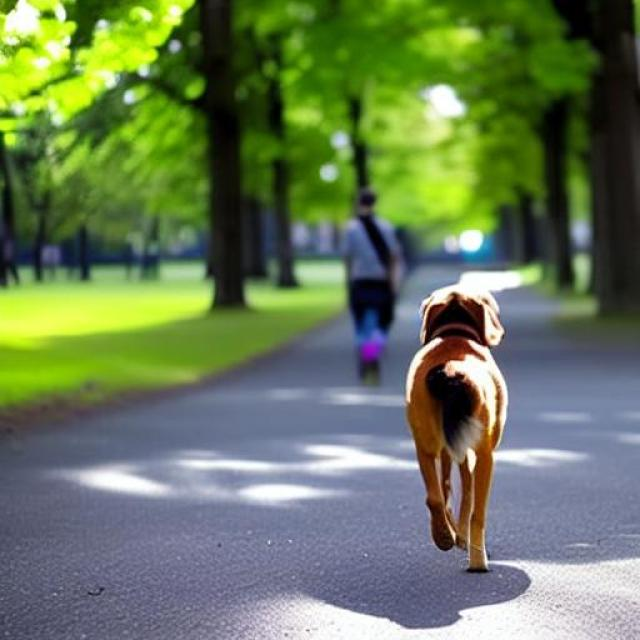Dog: (404, 283, 509, 575)
